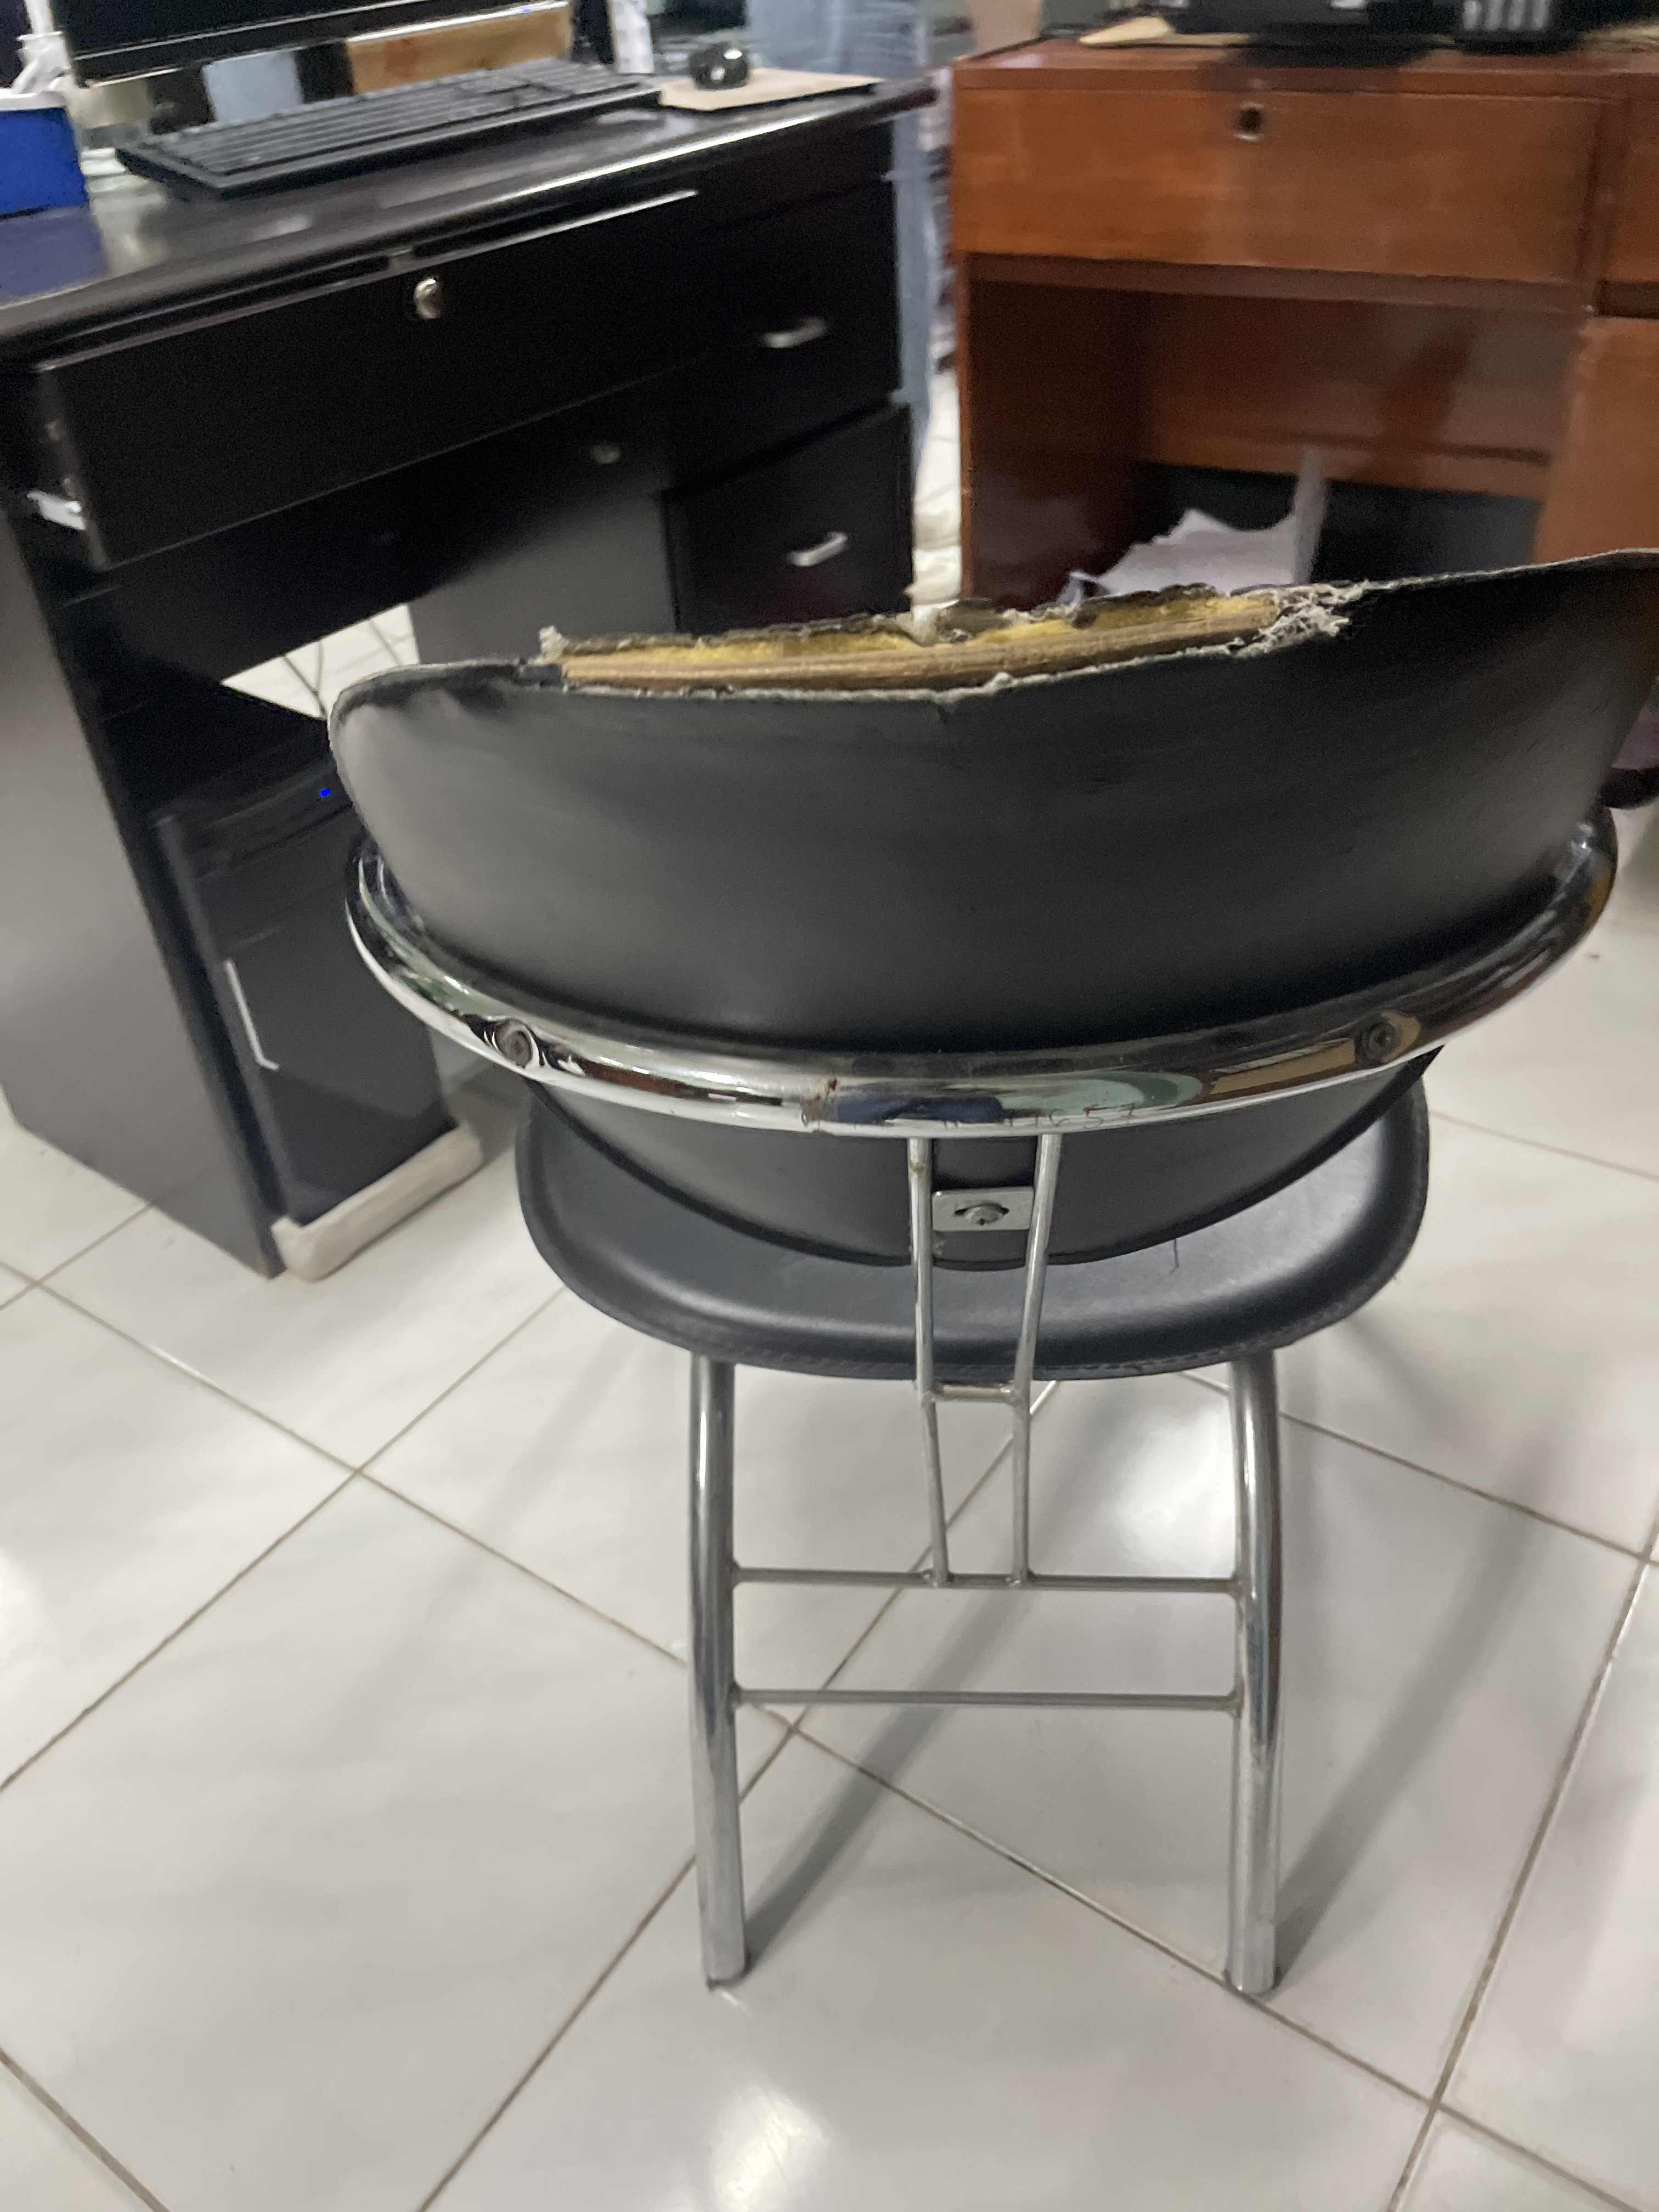chair1: (331, 550, 1659, 2003)
